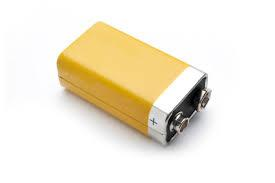9V Battery: (56, 22, 212, 148)
